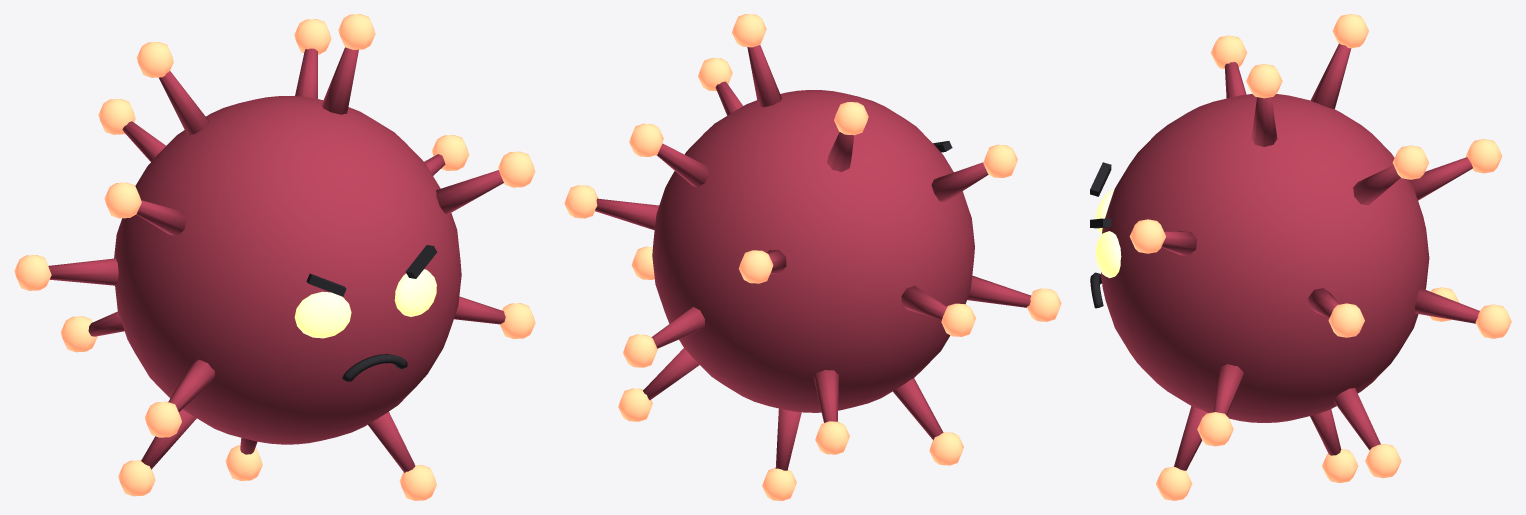
File: G05_Virus_Mine.glb
3 renders of one model, left to right at view 1: azimuth 30°, elevation 25°; view 2: azimuth 150°, elevation 25°; view 3: azimuth 270°, elevation 25°, orthographic. The views are drawn at different scales.
Parts seen in each view (by area): view 1: G05_Virus_Mine_Mesh; view 2: G05_Virus_Mine_Mesh; view 3: G05_Virus_Mine_Mesh.
Boxes of the visible parts, box(x1,y1,x2,y2) form: G05_Virus_Mine_Mesh: box(14, 14, 535, 500); G05_Virus_Mine_Mesh: box(564, 14, 1061, 500); G05_Virus_Mine_Mesh: box(1090, 14, 1511, 500).
Size of the model in its own units: 1.06 by 1.09 by 0.9202.
